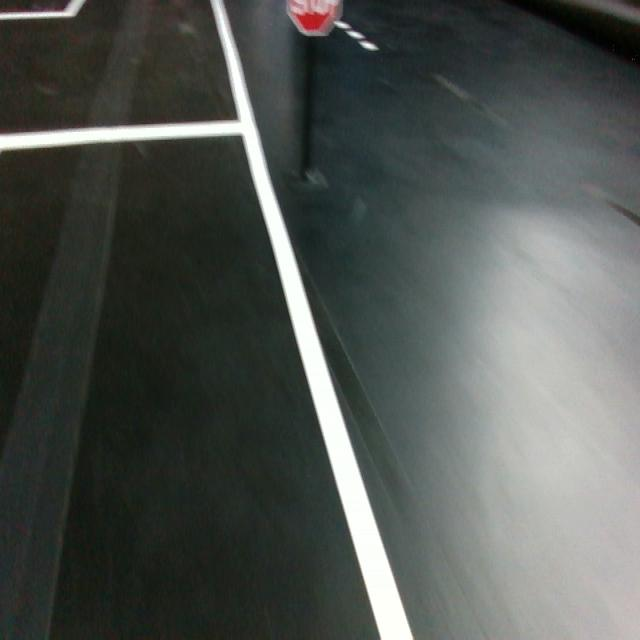stop-sign: (286, 0, 344, 37)
